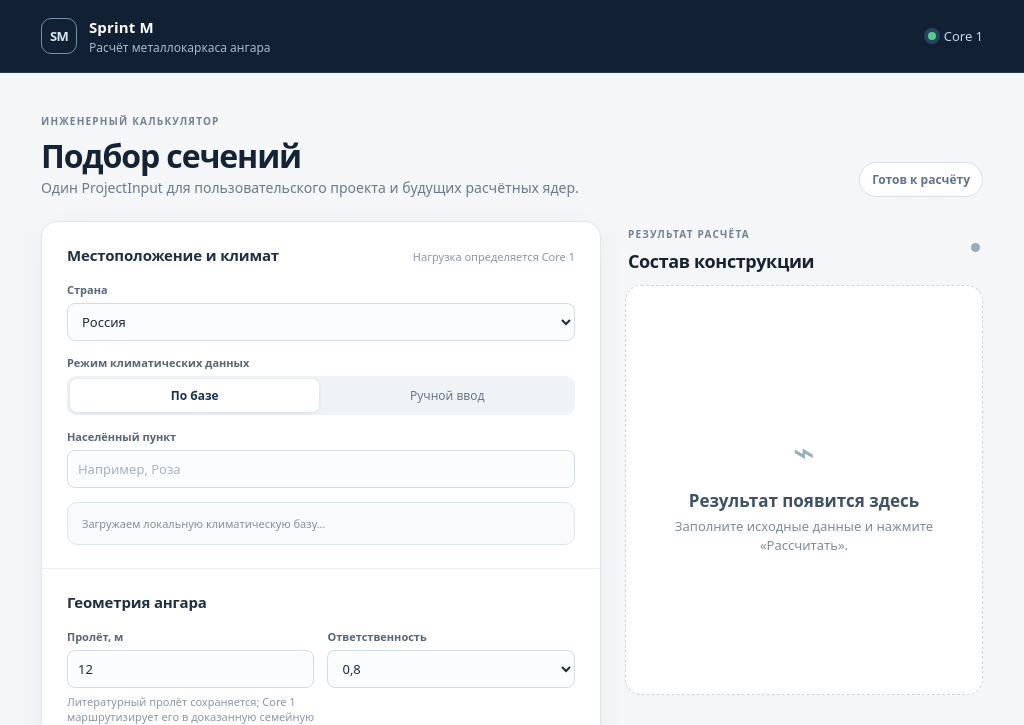
Sprint M calculator UI › searches and selects a city with keyboard and shows fresh climate preview
Step 1. Type "Челяби" into the dropdown labelled "Населённый пункт" → (321, 469), box [67,450,575,488]
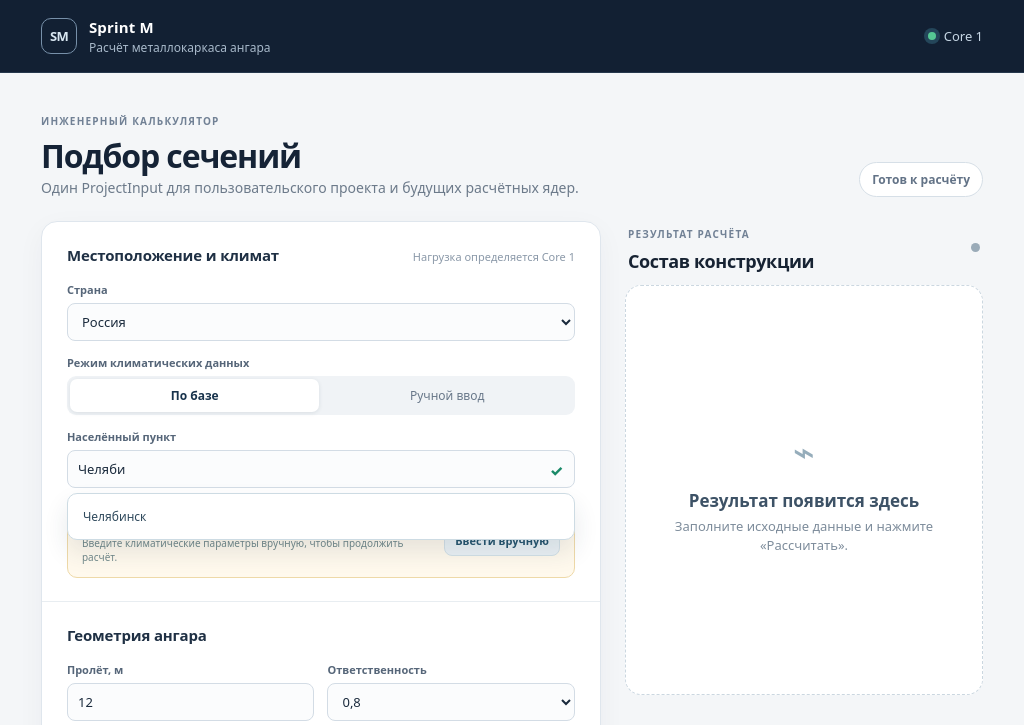
Result: the option "Челябинск" is shown at [73,499,569,534]
Step 2. Press ArrowDown in the dropdown labelled "Населённый пункт", box [67,450,575,488]
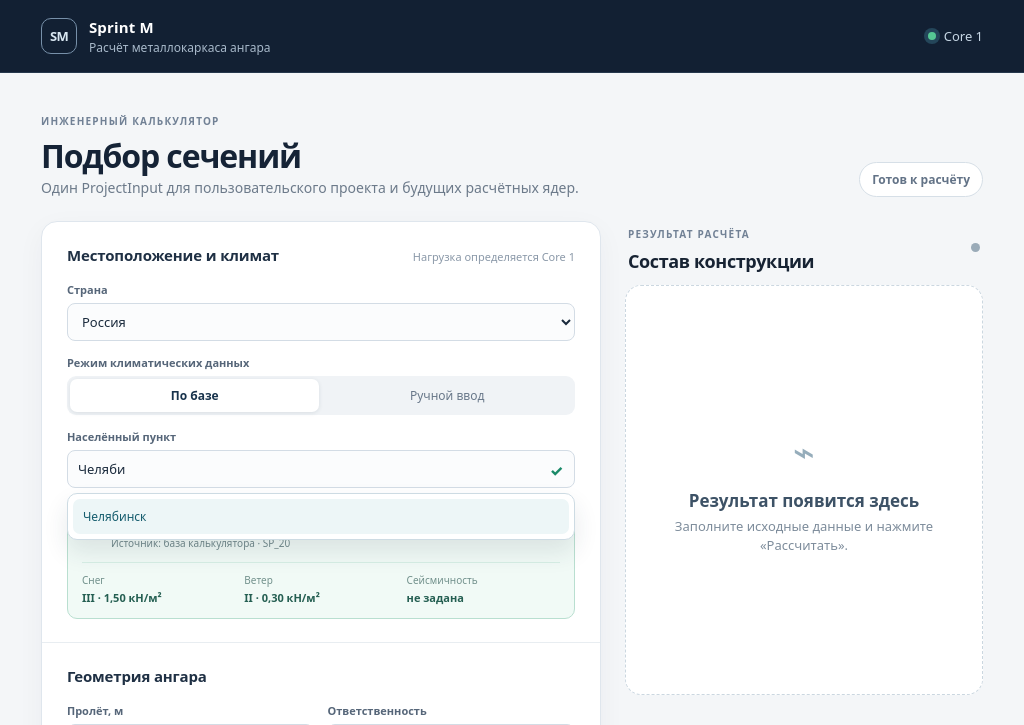
Step 3. Press Enter in the dropdown labelled "Населённый пункт", box [67,450,575,488]
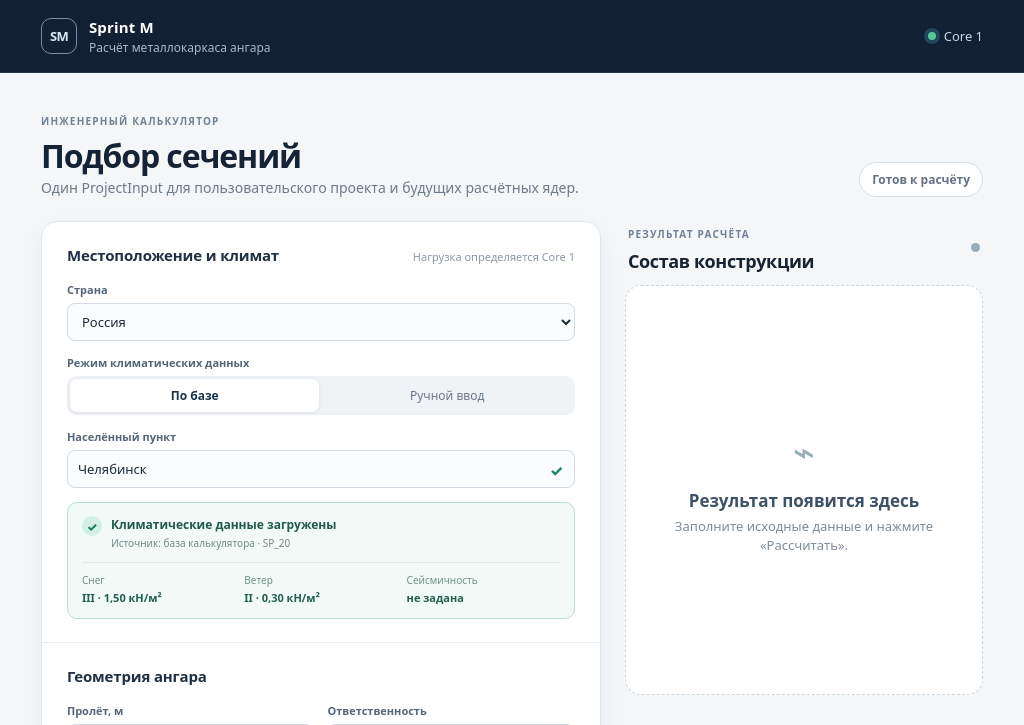
Result: the text "Климатические данные загружены" is shown at [111,516,336,533]
Result: the text "III · 1,50 кН/м²" is shown at [82,590,162,605]
Result: the dropdown labelled "Населённый пункт" holds "Челябинск" at [67,450,575,488]
